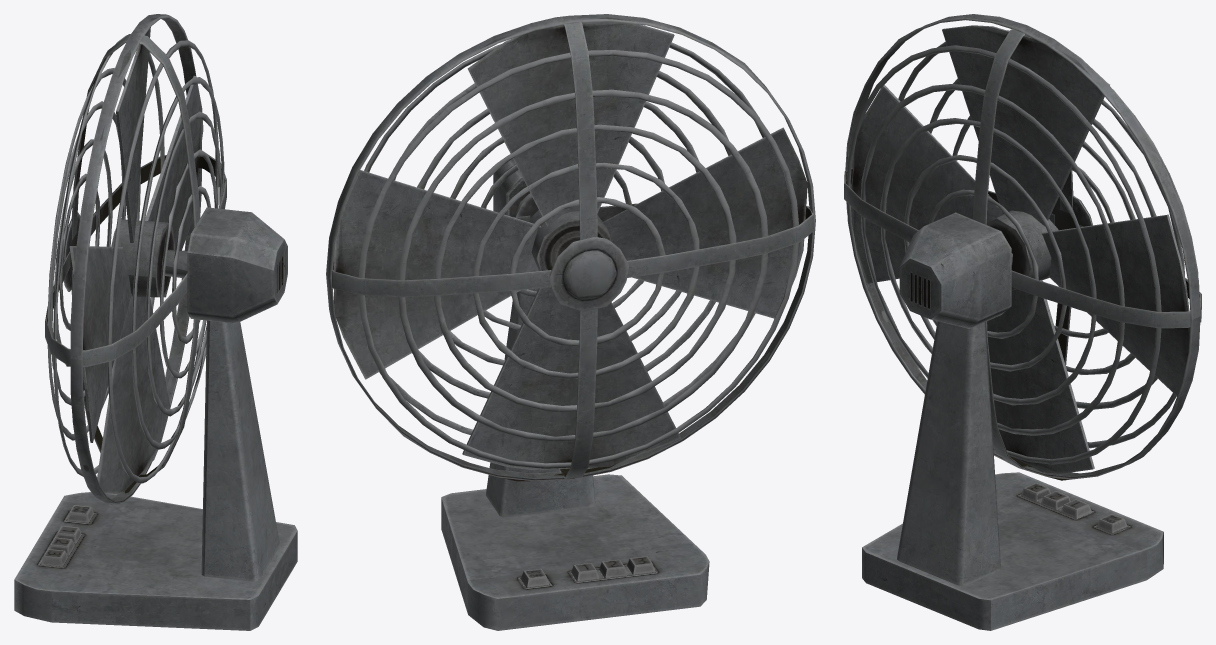
Rendered from ventilador.glb.
3 renders of one model, left to right at view 1: azimuth 30°, elevation 25°; view 2: azimuth 150°, elevation 25°; view 3: azimuth 270°, elevation 25°, orthographic. The views are drawn at different scales.
Visible parts, largest first — view 1: ENV_MOD_Desk_Fan_Fanblade_ENV_MAT_Desk_Fan.002_0; view 2: ENV_MOD_Desk_Fan_Fanblade_ENV_MAT_Desk_Fan.002_0; view 3: ENV_MOD_Desk_Fan_Fanblade_ENV_MAT_Desk_Fan.002_0.
Part boxes in pixels (x1=…): ENV_MOD_Desk_Fan_Fanblade_ENV_MAT_Desk_Fan.002_0: x1=14, y1=14, x2=297, y2=630; ENV_MOD_Desk_Fan_Fanblade_ENV_MAT_Desk_Fan.002_0: x1=326, y1=14, x2=815, y2=630; ENV_MOD_Desk_Fan_Fanblade_ENV_MAT_Desk_Fan.002_0: x1=844, y1=14, x2=1201, y2=630.
Bounding box in the file's own units: 0.2841 × 0.482 × 0.2904.
1 material, 1 textured.
